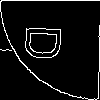D: (25, 25, 71, 61)
